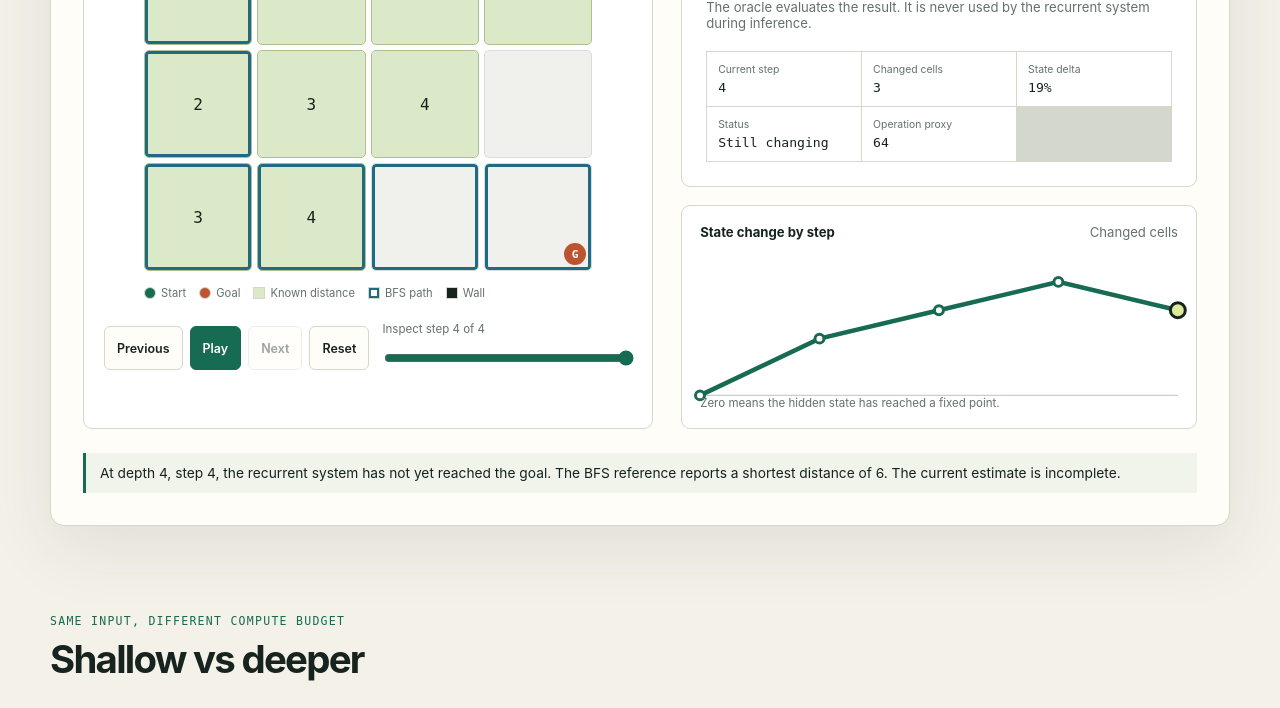
Test: interactive learning experience › moves backward and forward through exact trace states
The width and height of the screenshot is (1280, 708).
(page scrolled)
Click the button "Previous" at (143, 348), box [104,326,182,370]
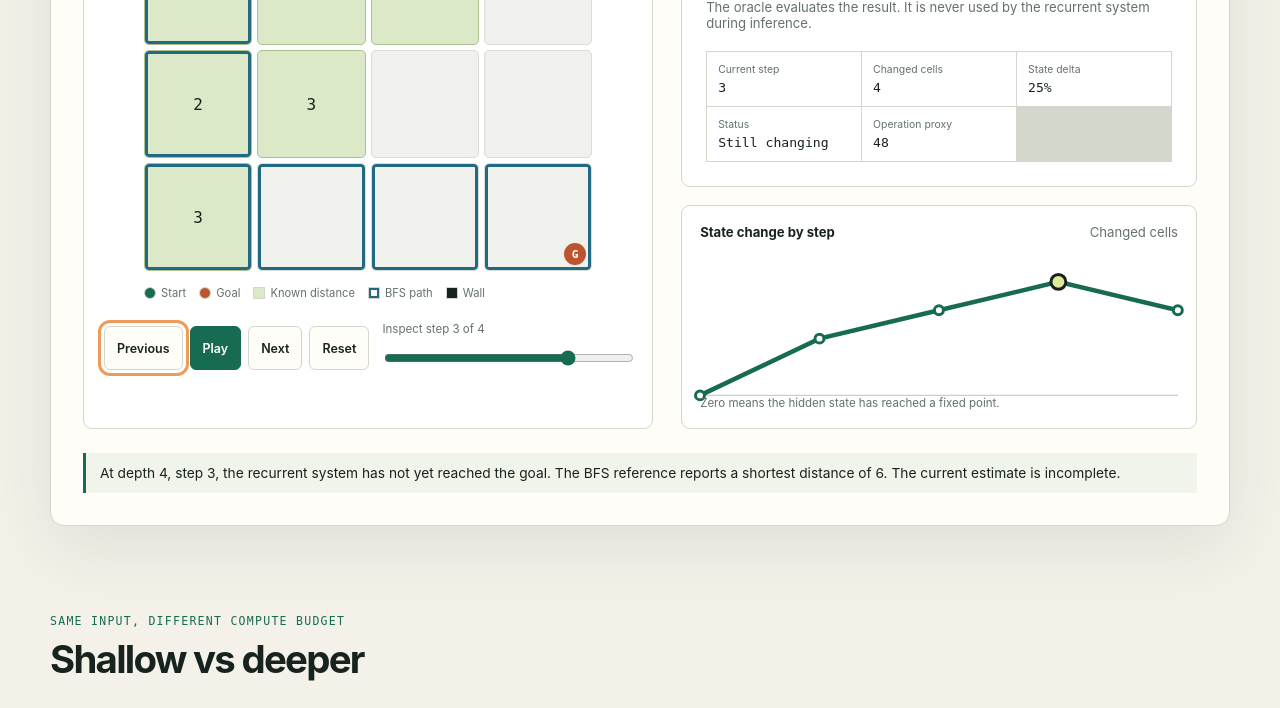
Click the button "Next" at (275, 348), box [248,326,302,370]
(page scrolled)
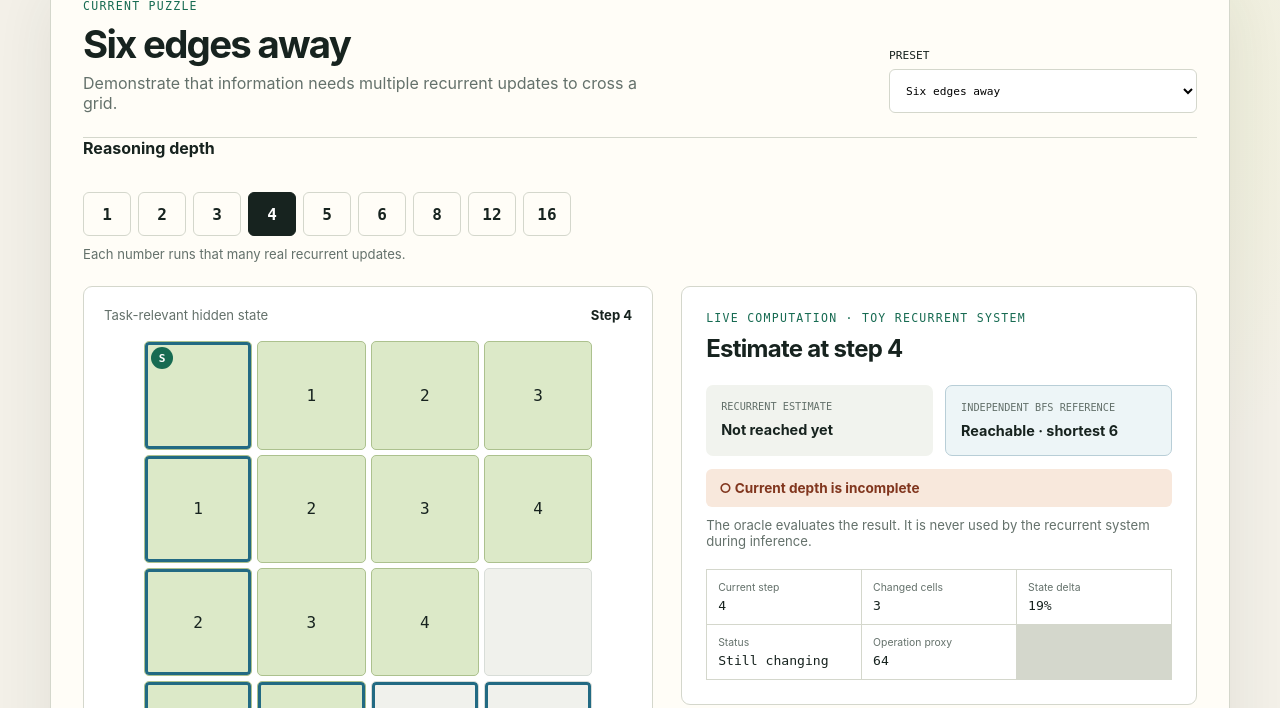
Expected: the heading "Estimate at step 4" is shown, [706,334,903,363]
